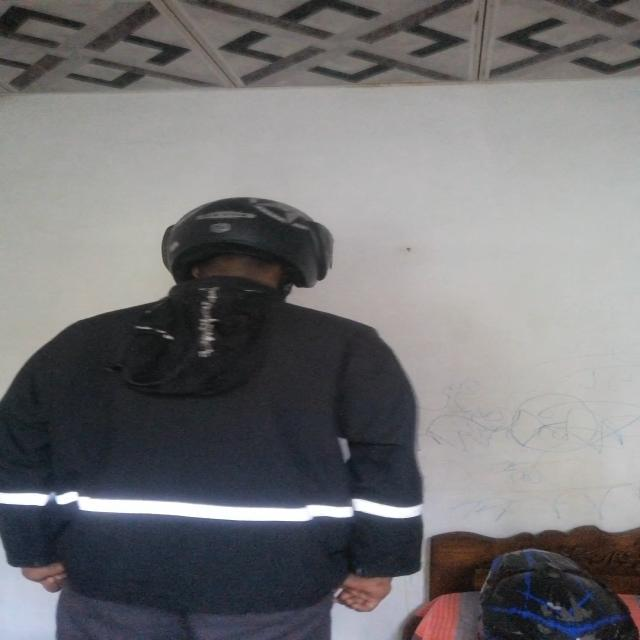Helmet_Wearer: (140, 192, 350, 314)
Jacket_Wearer: (26, 280, 438, 602)
Person: (19, 193, 440, 640)
